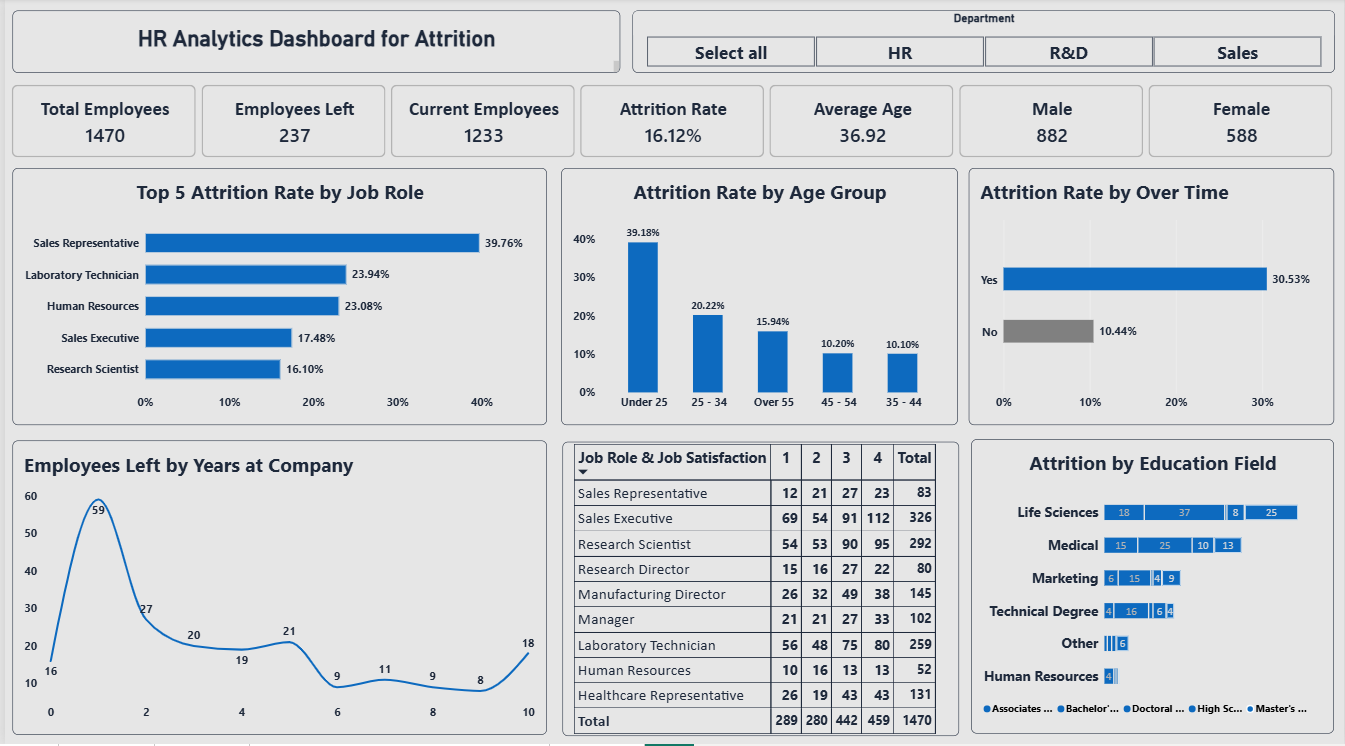

What the dashboard file says about the page in this screenshot:
{"tool":"powerbi","page":{"name":"HR Analytics Dashboard for Attrition","canvas":[1959,1091],"ordinal":3},"visuals":[{"type":"cardVisual","fields":{"Data":["HR Measures.Total Employees","HR Measures.Attrition","HR Measures.Current Employees","HR Measures.Attrition Rate","HR Measures.Average Age","HR Measures.Male","HR Measures.Female"]},"box":[10,126,1934,108],"z":0},{"type":"clusteredBarChart","title":"Top 5 Attrition Rate by Job Role","fields":{"Category":["Data.Job Role"],"Y":["HR Measures.Attrition Rate"]},"box":[10.5,247.8,781.3,375.9],"z":1000},{"type":"lineChart","fields":{"Category":["Data.Years At Company"],"Y":["HR Measures.Attrition"]},"box":[10.5,646.8,781.3,430.5],"z":2000},{"type":"clusteredColumnChart","fields":{"Category":["Data.CF_age band"],"Y":["HR Measures.Attrition Rate"]},"box":[814,248,580,376],"z":3000},{"type":"pivotTable","fields":{"Rows":["Data.Job Role"],"Columns":["Data.Job Satisfaction"],"Values":["CountNonNull(Data.Job Satisfaction)"]},"box":[814.9,648.9,579.6,430.5],"z":4000},{"type":"barChart","fields":{"Category":["Data.Education Field"],"Y":["HR Measures.Attrition"],"Series":["Data.Education"]},"box":[1414,646,530,430],"z":5000},{"type":"slicer","title":"Department","fields":{"Values":["Data.Department"]},"box":[917.7,18.3,1027.4,91.4],"z":6000},{"type":"textbox","title":"HR Analytics Dashboard for Attrition","box":[11,18.3,888.5,91.4],"z":7000},{"type":"barChart","fields":{"Category":["Data.Over Time"],"Y":["HR Measures.Attrition Rate"]},"box":[1410,248,534,376],"z":8000}]}

Visuals, with their boxes in screenshot pixels (x1, y1, x2, y2), scaled from the page's 1959x1091 canvas onto the 1345x746 screenshot:
cardVisual - HR Measures.Total Employees x HR Measures.Attrition: bbox=(7, 86, 1335, 160)
"Top 5 Attrition Rate by Job Role" clusteredBarChart: bbox=(7, 169, 544, 426)
lineChart - Data.Years At Company x HR Measures.Attrition: bbox=(7, 442, 544, 737)
clusteredColumnChart - Data.CF_age band x HR Measures.Attrition Rate: bbox=(559, 170, 957, 427)
pivotTable - Data.Job Role x Data.Job Satisfaction: bbox=(559, 444, 957, 738)
barChart - Data.Education Field x HR Measures.Attrition: bbox=(971, 442, 1335, 736)
"Department" slicer: bbox=(630, 13, 1335, 75)
"HR Analytics Dashboard for Attrition" textbox: bbox=(8, 13, 618, 75)
barChart - Data.Over Time x HR Measures.Attrition Rate: bbox=(968, 170, 1335, 427)
